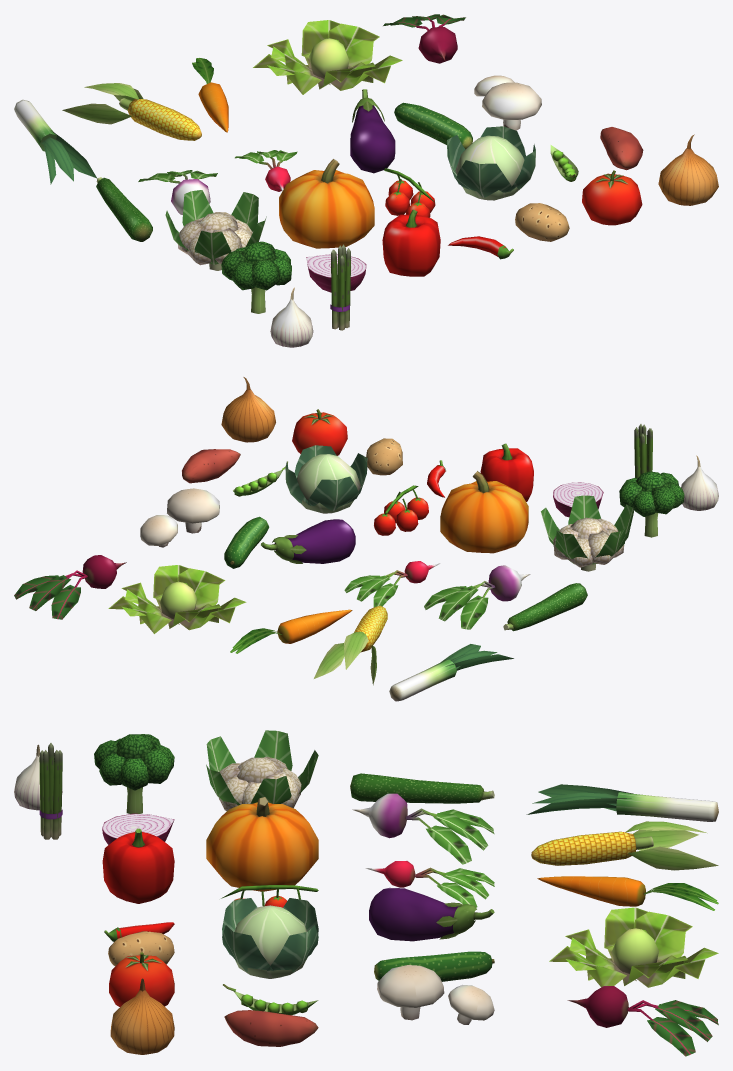
Rendered from vegetable_pack.glb.
3 renders of one model, top to bottom at view 1: azimuth 30°, elevation 25°; view 2: azimuth 150°, elevation 25°; view 3: azimuth 270°, elevation 25°, orthographic. The views are drawn at different scales.
Visible parts, largest first — view 1: Pumpkin, Lettuce, Cabbage, Cauliflower, Corn, BellPepper, Broccoli, Eggplant, Tomato, Onion, Mushrooms, Leek (+14 smaller); view 2: Pumpkin, Lettuce, Cauliflower, Cabbage, Beet, Eggplant, Turnip, Mushrooms, Broccoli, Leek, Corn, Onion (+13 smaller); view 3: Pumpkin, Lettuce, Cabbage, Cauliflower, Corn, Eggplant, BellPepper, Leek, Beet, Mushrooms, Broccoli, Turnip (+14 smaller).
Boxes of the visible parts, x1,y1,x2,y2 form: Pumpkin: [279, 159, 374, 248]; Lettuce: [253, 20, 402, 94]; Cabbage: [447, 126, 535, 200]; Cauliflower: [165, 190, 266, 270]; Corn: [62, 83, 201, 140]; BellPepper: [382, 209, 440, 276]; Broccoli: [221, 241, 291, 313]; Eggplant: [350, 89, 395, 173]; Tomato: [582, 170, 642, 225]; Onion: [658, 134, 718, 205]; Mushrooms: [474, 75, 541, 130]; Leek: [14, 99, 96, 184]; Pumpkin: [440, 471, 528, 553]; Lettuce: [108, 565, 246, 633]; Cauliflower: [540, 495, 633, 571]; Cabbage: [285, 445, 367, 513]; Beet: [14, 555, 126, 619]; Eggplant: [261, 519, 355, 563]; Turnip: [424, 565, 530, 629]; Mushrooms: [140, 488, 219, 547]; Broccoli: [619, 471, 684, 537]; Leek: [389, 644, 513, 701]; Corn: [314, 605, 387, 685]; Onion: [221, 377, 275, 442]; Pumpkin: [206, 797, 318, 891]; Lettuce: [549, 907, 718, 987]; Cabbage: [222, 898, 318, 978]; Cauliflower: [206, 730, 318, 810]; Corn: [531, 821, 718, 870]; Eggplant: [369, 887, 494, 941]; BellPepper: [102, 828, 174, 903]; Leek: [526, 784, 718, 821]; Beet: [567, 986, 718, 1056]; Mushrooms: [377, 965, 494, 1024]; Broccoli: [94, 734, 174, 813]; Turnip: [352, 793, 494, 864].
Size of the model in its own units: 2.45 by 0.3923 by 2.7.
Materials: 3 (3 with a texture image).
